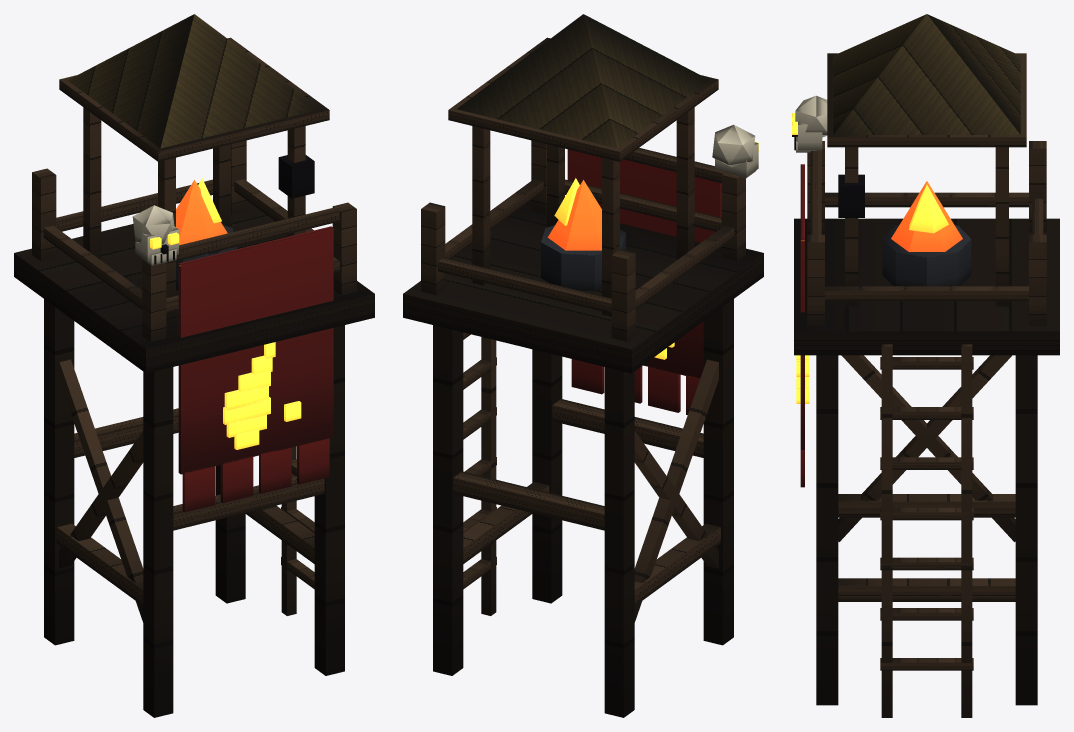
Rendered from watchtower.gltf.
3 views of the same model, side by side, from view 1: azimuth 30°, elevation 25°; view 2: azimuth 150°, elevation 25°; view 3: azimuth 270°, elevation 25° (orthographic).
Visible parts, largest first — view 1: watchtower; view 2: watchtower; view 3: watchtower.
Part boxes in pixels (bbox=[...]): watchtower: bbox=[14, 14, 374, 717]; watchtower: bbox=[403, 14, 763, 717]; watchtower: bbox=[792, 14, 1059, 717].
Size of the model in its own units: 1.22 by 3.21 by 1.21.
1 material, 1 textured.
